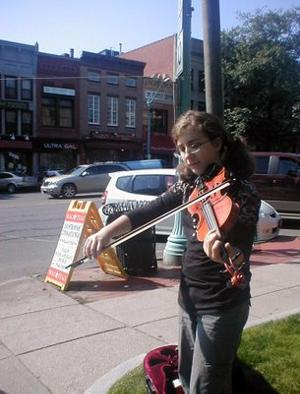person: (84, 111, 260, 394)
